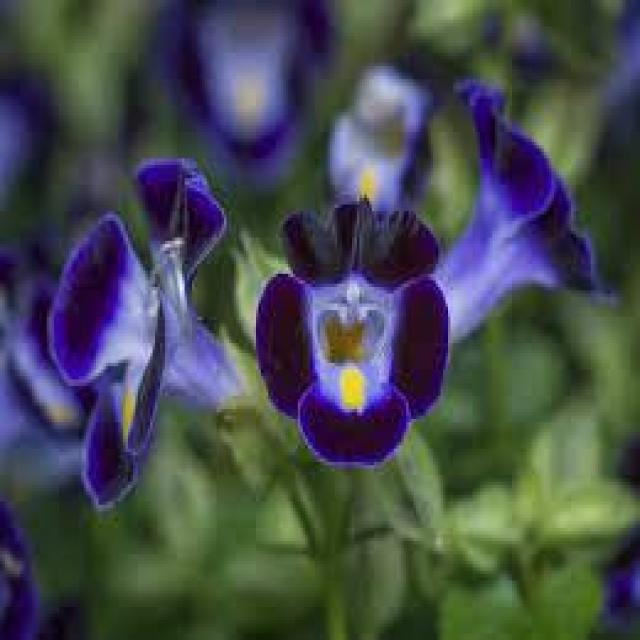organic waste: (31, 145, 245, 521), (251, 193, 470, 463), (407, 74, 616, 345)
